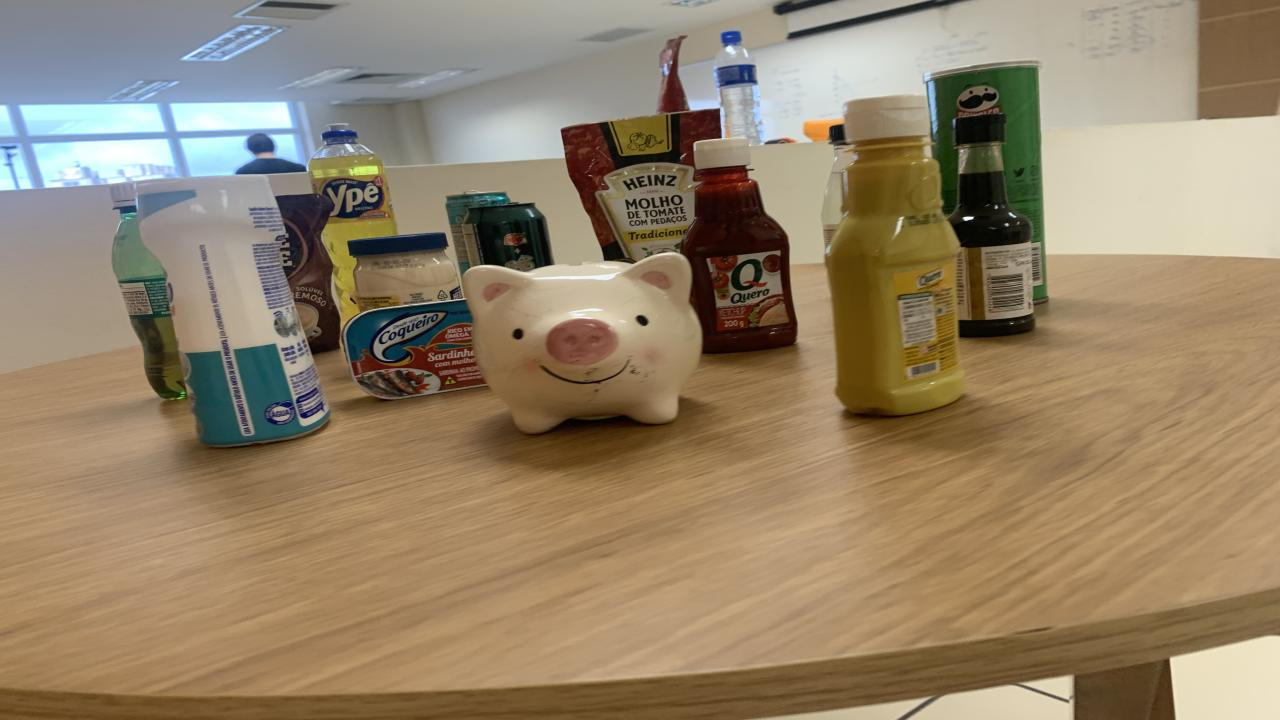Coffee-Pantry_Items: (275, 193, 340, 352)
Detergent-Cleanup_Items: (308, 124, 398, 322)
English_Sauce-Pantry_Items: (948, 114, 1035, 338)
Guarana-Drinks: (110, 182, 188, 399), (462, 202, 552, 272)
Guava-Snacks: (138, 176, 330, 446)
Ketchup-Pantry_Items: (680, 137, 798, 352)
Mayonnaise-Pantry_Items: (348, 232, 462, 311)
Mustard-Pantry_Items: (828, 96, 962, 416)
Pig_Safe-Miscellaneous: (462, 253, 702, 433)
Pringles-Snacks: (925, 60, 1048, 300)
Soda-Drinks: (820, 124, 852, 255)
Tea-Drinks: (445, 191, 510, 274)
Tomato_Sauce-Pantry_Items: (562, 105, 722, 262)
Tuna_Can-Pantry_Items: (342, 298, 485, 399)
